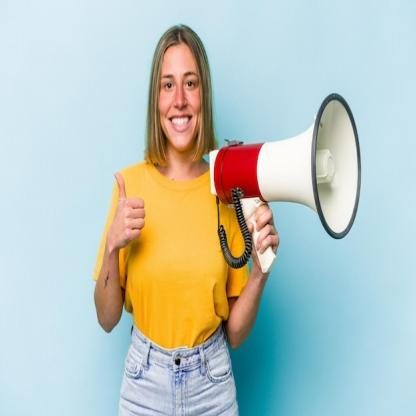thumb_up: (102, 166, 148, 250)
